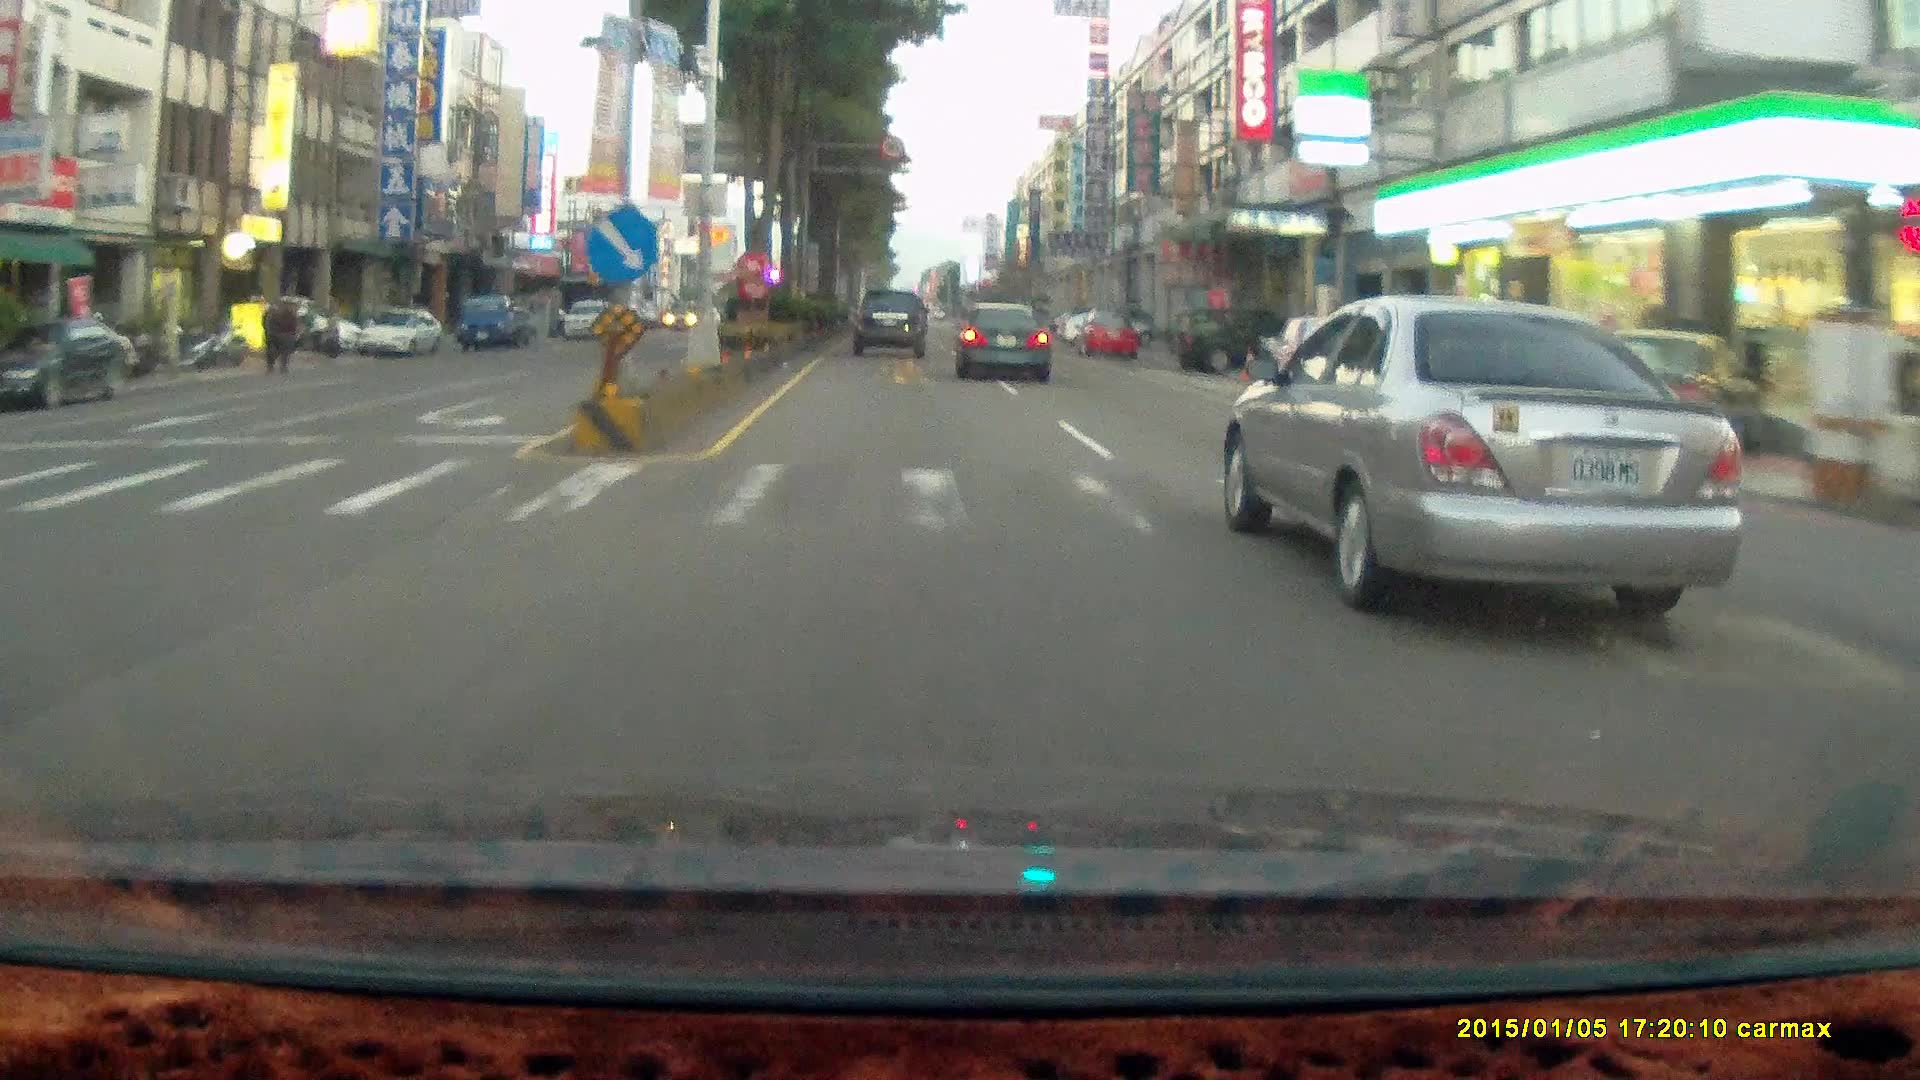pedestrian: (266, 297, 296, 375), (269, 294, 296, 367)
vehicle: (1227, 286, 1744, 623), (1591, 325, 1777, 495), (1574, 325, 1761, 475), (0, 318, 130, 412), (1, 320, 127, 411), (1276, 315, 1391, 409), (956, 301, 1053, 385), (1173, 309, 1291, 376), (1172, 308, 1289, 375), (956, 300, 1049, 382), (1261, 313, 1357, 387), (853, 293, 934, 363), (851, 287, 928, 357), (459, 295, 546, 353), (354, 310, 440, 357), (455, 294, 529, 349), (356, 309, 436, 358), (1080, 308, 1141, 361), (1073, 308, 1137, 357), (563, 299, 612, 340)
